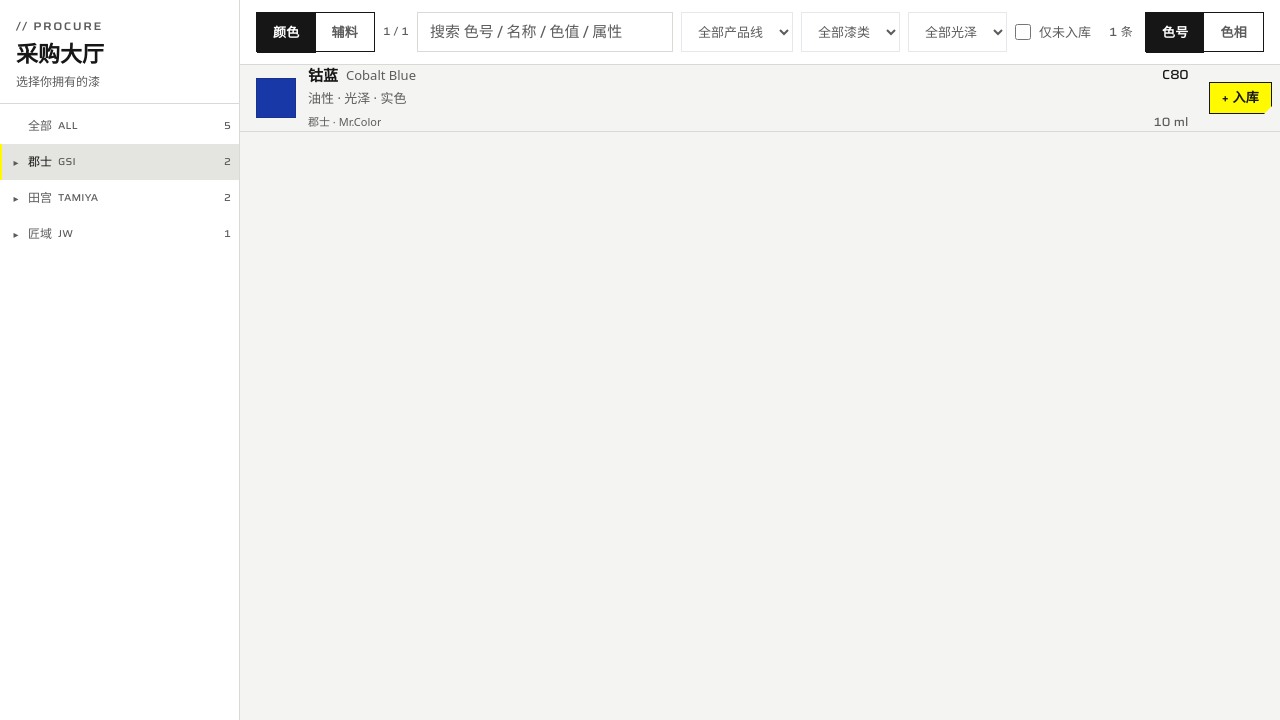
2.2.2 · 采购页辅料货架与摘要 › 工具栏摘要：近似色值 / 未核验 只在池级显示一次，行内不再逐条挂牌
The width and height of the screenshot is (1280, 720).
Click the option "▸ 田宫 TAMIYA 2".
click(78, 197)  # box [10,189,231,206]
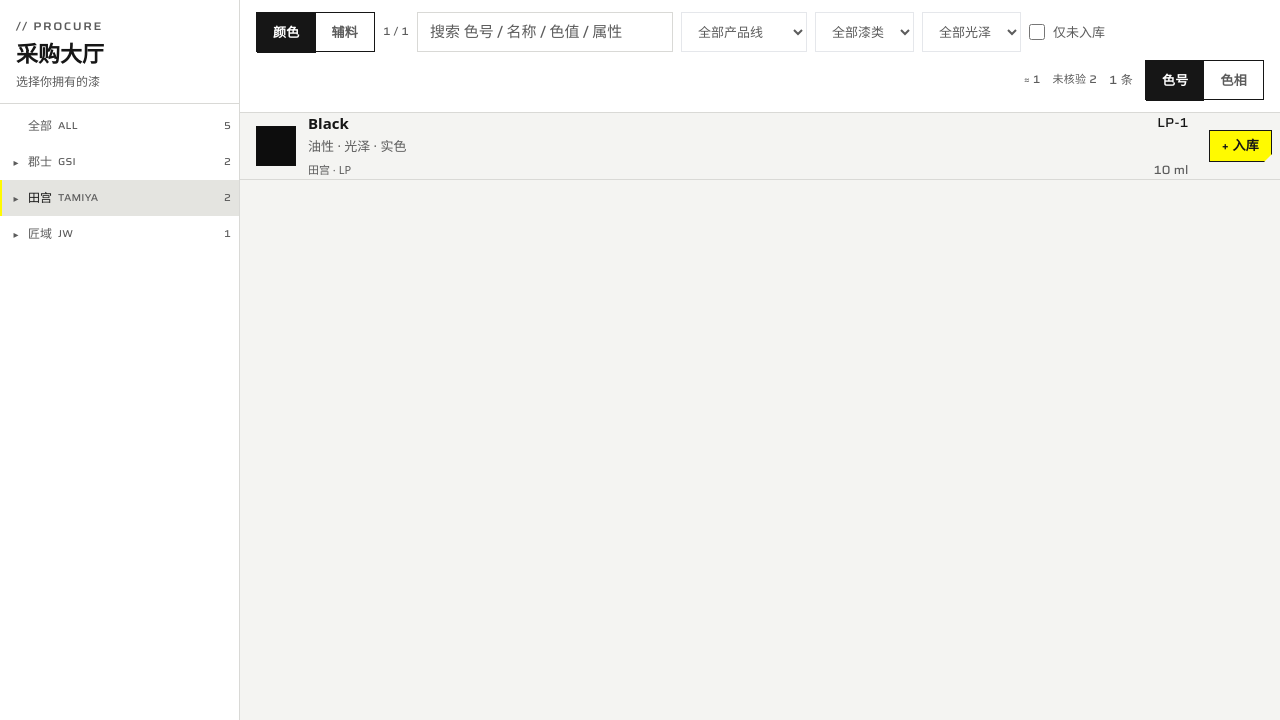
# 行内：只留一个 ≈ 记号，没有整块「≈ 推定色」小牌（X-20A 在辅料货架）
Click the tab "辅料".
click(345, 33)  # box [316,13,374,53]
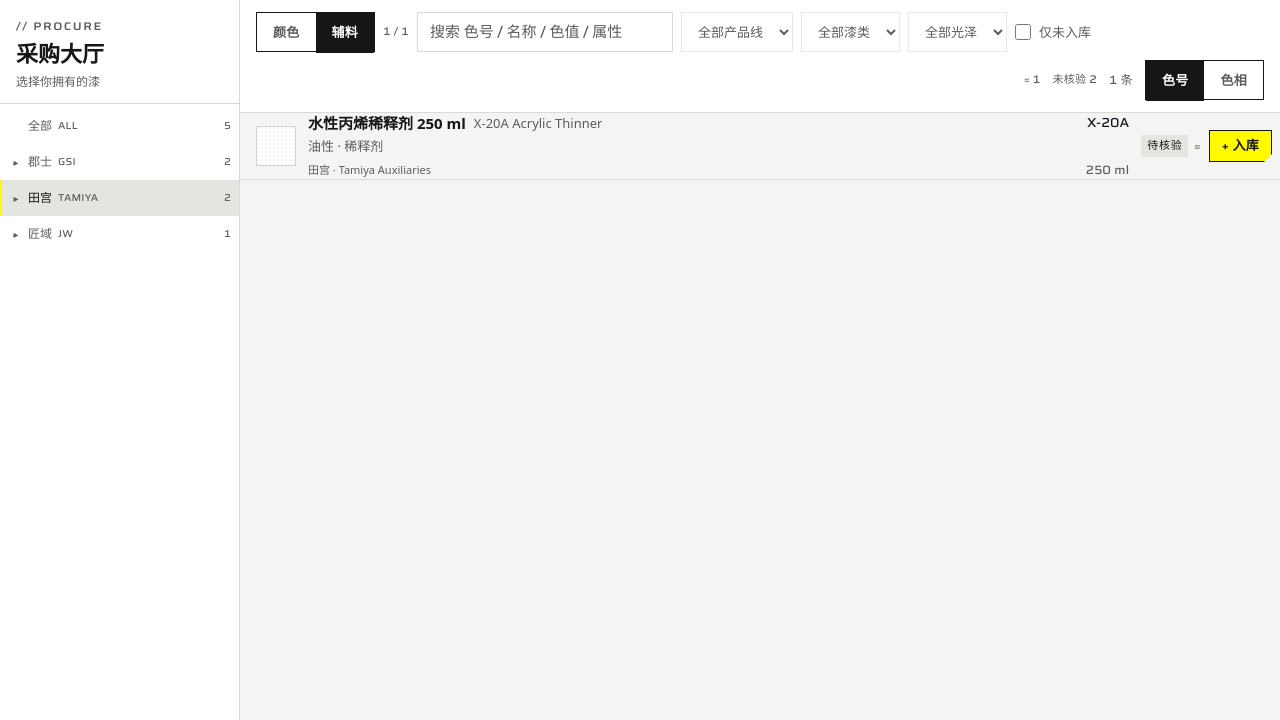
expect the option with aria-label "水性丙烯稀释剂 250 ml，X-20A Acrylic Thinner，X-20A，油性 · 稀释剂" is shown: met, box [240,113,1209,179]
expect the text "≈" is shown: met, box [1194,140,1201,152]
